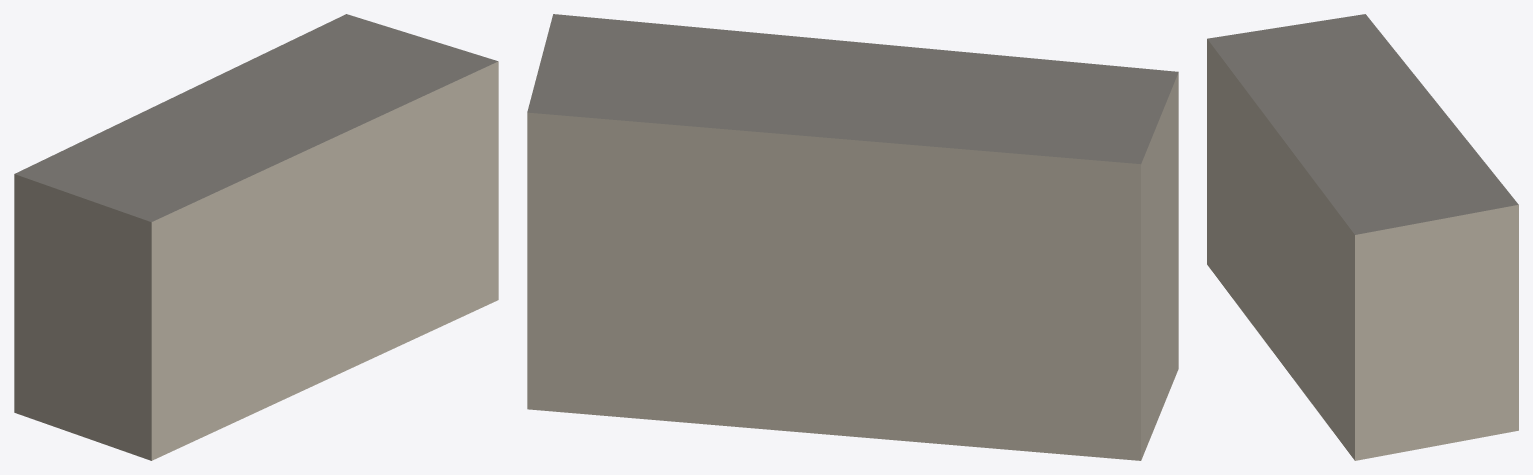
The picture shows the model from 3 angles, left to right: view 1: azimuth 30°, elevation 25°; view 2: azimuth 150°, elevation 25°; view 3: azimuth 270°, elevation 25°; orthographic projection. The views are drawn at different scales.
Parts seen in each view (by area): view 1: HP-w505659400; view 2: HP-w505659400; view 3: HP-w505659400.
Part boxes in pixels (bbox=[...]): HP-w505659400: bbox=[14, 14, 498, 460]; HP-w505659400: bbox=[527, 14, 1178, 460]; HP-w505659400: bbox=[1207, 14, 1518, 460].
Size of the model in its own units: 25.17 by 12 by 15.
